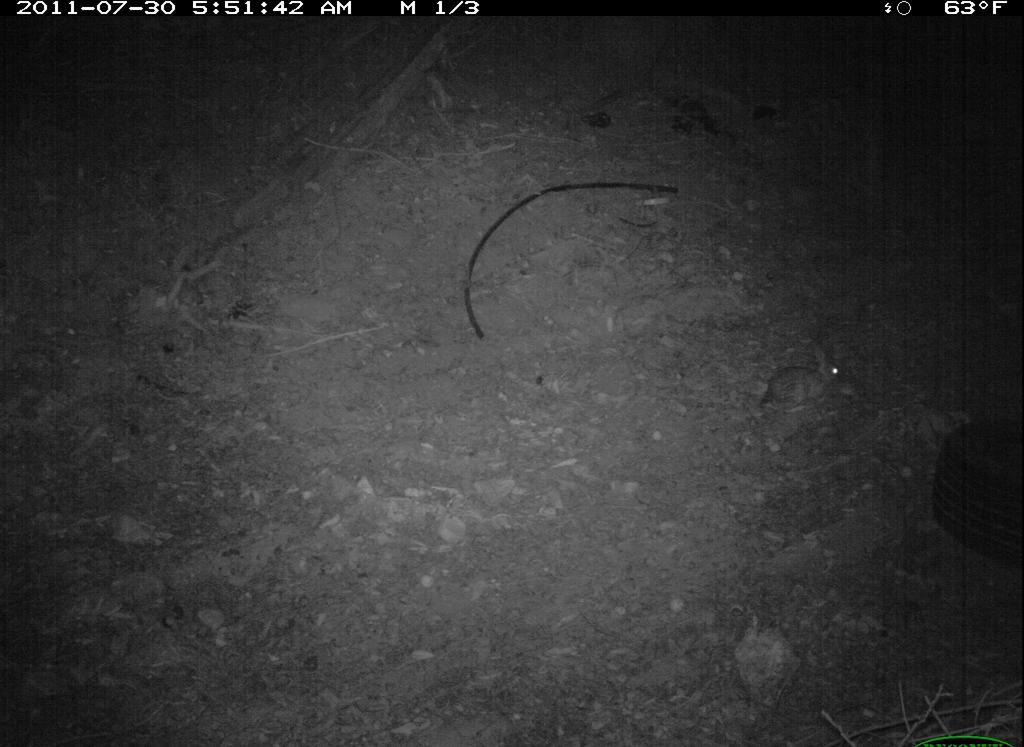rabbit: (756, 329, 850, 420)
